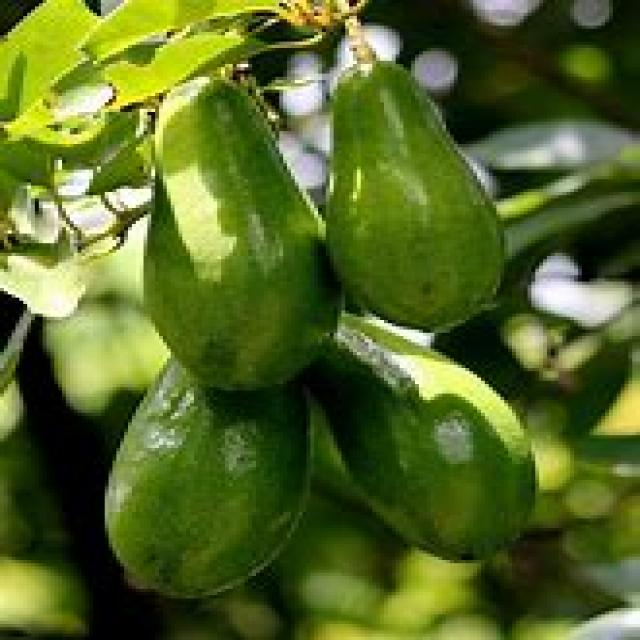Avocado: (137, 84, 337, 398), (116, 335, 320, 609), (299, 309, 546, 522), (324, 56, 496, 343)
